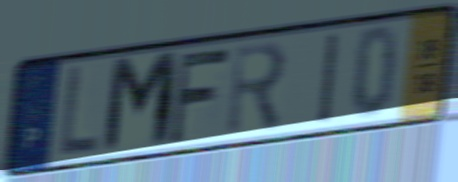0: (351, 22, 402, 122)
F: (167, 44, 233, 147)
I: (316, 29, 343, 129)
L: (56, 62, 102, 159)
M: (99, 47, 182, 159)
R: (224, 37, 290, 140)
